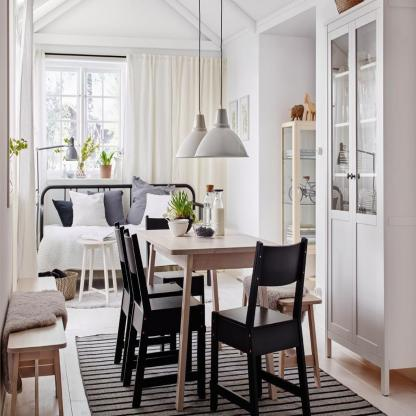Chair: (208, 236, 311, 416)
